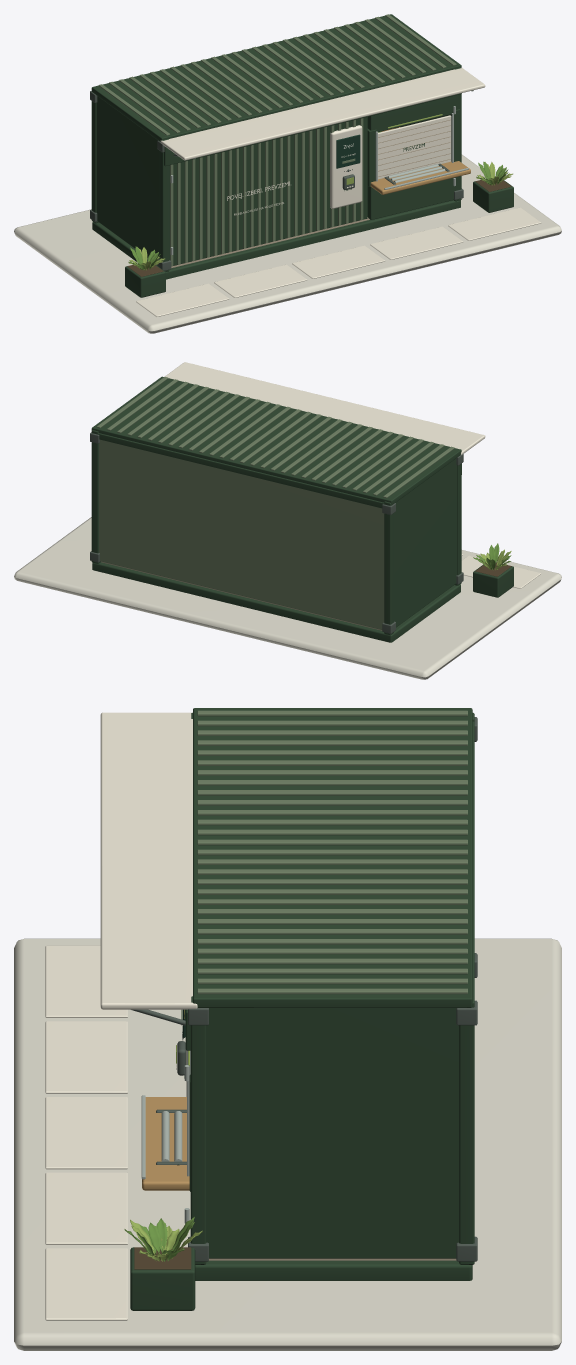
The model's file is container.glb.
3 renders of one model, top to bottom at view 1: azimuth 30°, elevation 25°; view 2: azimuth 150°, elevation 25°; view 3: azimuth 270°, elevation 25°, orthographic. The views are drawn at different scales.
Parts seen in each view (by area): view 1: Static_Forest, Static_Ground, Roof_Forest, CutawayShell_Forest, Roof_Sage, Static_Cream, CutawayShell_Sage, Roof_Cream, PickupHatch_Cream, Static_Wood, Static_Aluminium, PickupHatch_Floor (+6 smaller); view 2: Static_Sage, Static_Ground, Static_Forest, Roof_Forest, Roof_Sage, Roof_Cream, Static_Cream, Static_Steel; view 3: Static_Ground, CutawayShell_Forest, Roof_Sage, Roof_Forest, Static_Cream, Roof_Cream, Static_Forest, Static_Wood, Static_Steel, Static_Aluminium, Static_Leaf, Static_Soil (+1 smaller).
Part boxes in pixels (<box>): Static_Forest: <box>91,67,513,297</box>; Static_Ground: <box>14,154,561,333</box>; Roof_Forest: <box>91,14,461,141</box>; CutawayShell_Forest: <box>164,93,461,265</box>; Roof_Sage: <box>98,14,456,135</box>; Static_Cream: <box>136,125,540,316</box>; CutawayShell_Sage: <box>170,118,363,266</box>; Roof_Cream: <box>160,67,485,160</box>; PickupHatch_Cream: <box>378,115,451,179</box>; Static_Wood: <box>370,161,470,194</box>; Static_Aluminium: <box>375,113,468,189</box>; PickupHatch_Floor: <box>378,119,450,176</box>; Static_Sage: <box>99,439,384,629</box>; Static_Ground: <box>14,517,561,679</box>; Static_Forest: <box>91,430,513,642</box>; Roof_Forest: <box>91,376,461,505</box>; Roof_Sage: <box>97,377,454,498</box>; Roof_Cream: <box>165,362,485,454</box>; Static_Cream: <box>461,554,541,588</box>; Static_Steel: <box>90,432,463,633</box>; Static_Ground: <box>14,938,561,1350</box>; CutawayShell_Forest: <box>185,1008,458,1258</box>; Roof_Sage: <box>197,710,467,994</box>; Roof_Forest: <box>193,708,472,1007</box>; Static_Cream: <box>45,945,186,1320</box>; Roof_Cream: <box>100,712,197,1009</box>; Static_Forest: <box>130,712,474,1310</box>; Static_Wood: <box>142,1097,189,1190</box>; Static_Steel: <box>156,717,477,1261</box>; Static_Aluminium: <box>141,1050,190,1179</box>; Static_Leaf: <box>124,1217,194,1261</box>; Static_Soil: <box>134,1247,191,1269</box>.
Size of the model in its own units: 8.5 by 3 by 4.9.
